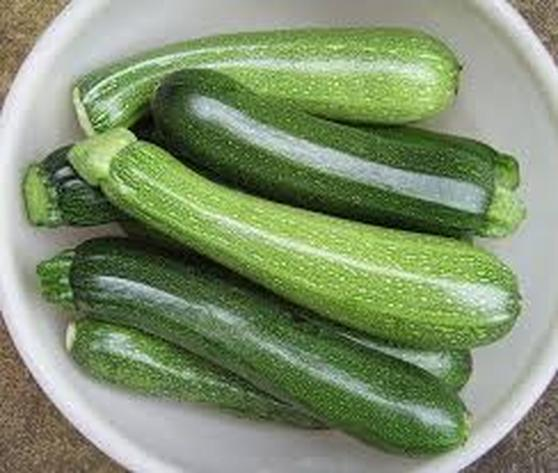zucchini: (43, 233, 473, 453), (165, 50, 539, 235)
